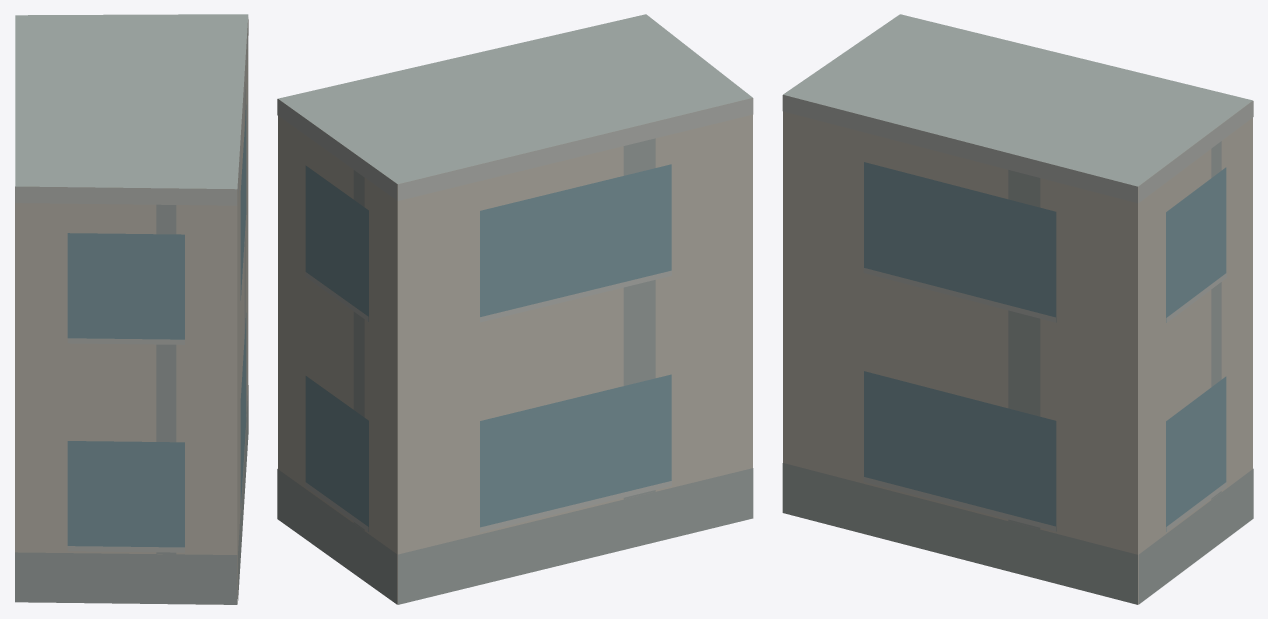
File: survey-upis-32737068.glb
The picture shows the model from 3 angles, left to right: view 1: azimuth 30°, elevation 25°; view 2: azimuth 150°, elevation 25°; view 3: azimuth 270°, elevation 25°; orthographic projection.
Visible parts, largest first — view 1: survey-upis-32737068.tmp; view 2: survey-upis-32737068.tmp; view 3: survey-upis-32737068.tmp.
Part boxes in pixels (x1,y1,x2,y2): survey-upis-32737068.tmp: (15,14,248,604); survey-upis-32737068.tmp: (277,14,753,604); survey-upis-32737068.tmp: (782,14,1253,604).
Bounding box in the file's own units: 5.41 × 6.1 × 6.23.
